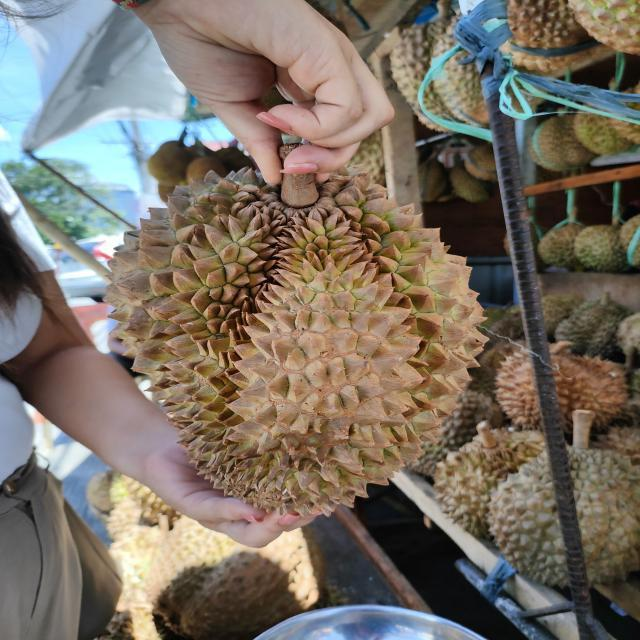mature: (100, 190, 491, 524)
